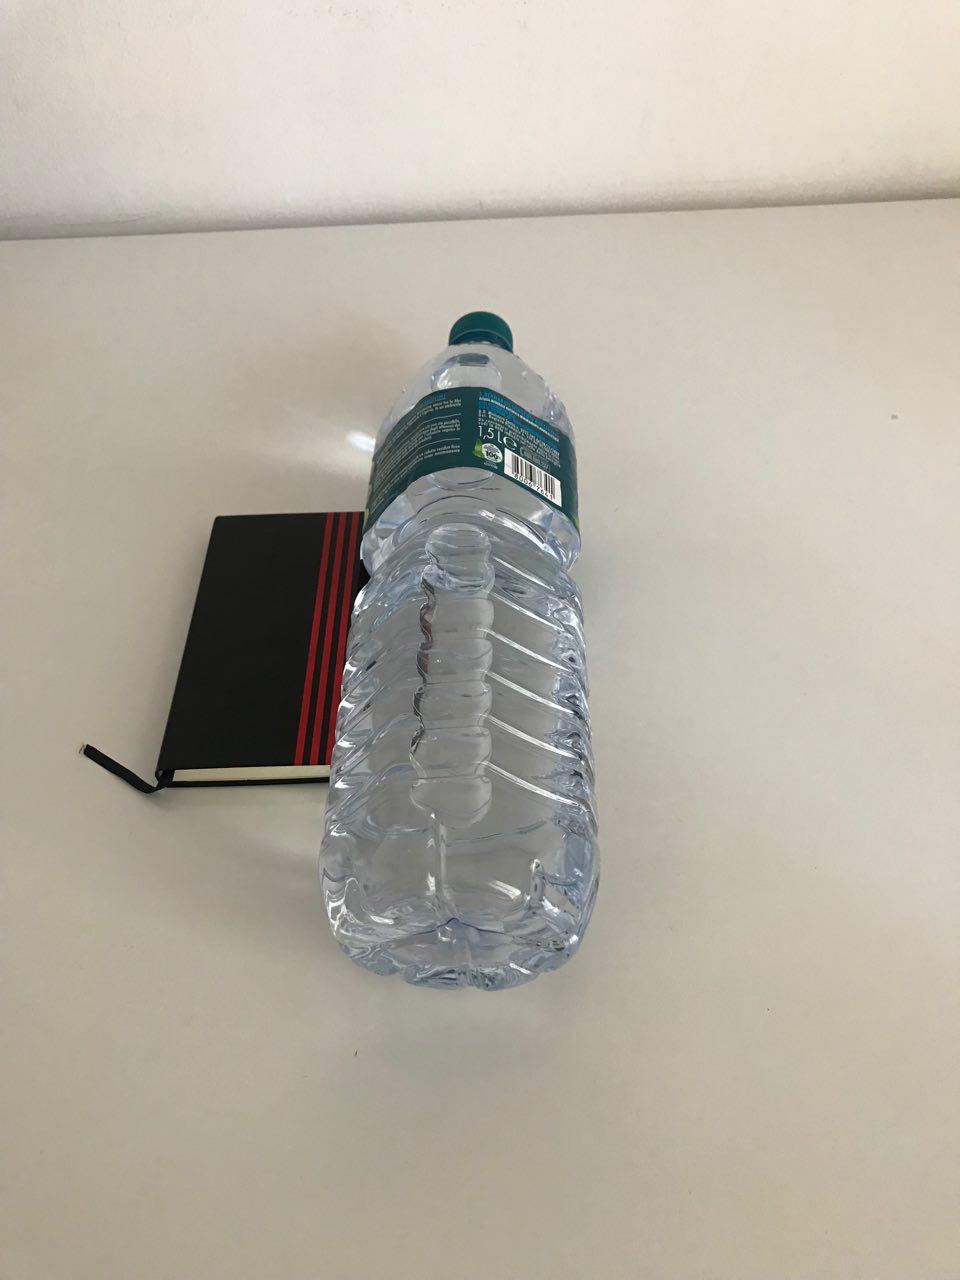san_bernardo: (316, 310, 603, 994)
